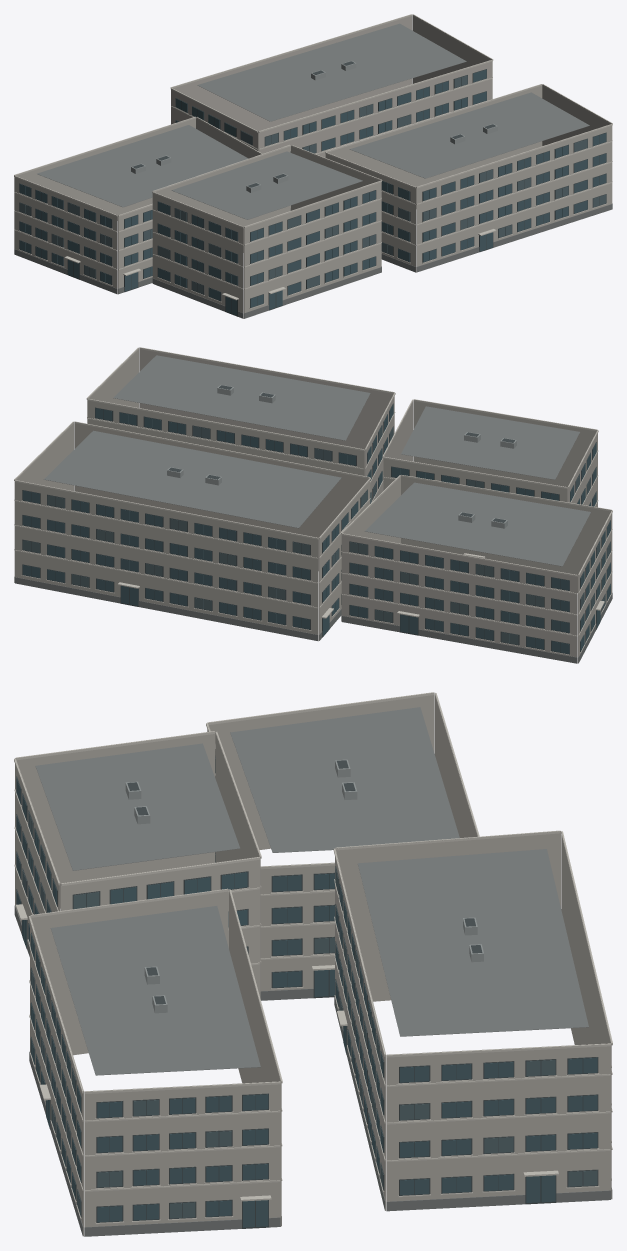
File: north-industrial-frontage-t7.glb
The picture shows the model from 3 angles, top to bottom: view 1: azimuth 30°, elevation 25°; view 2: azimuth 150°, elevation 25°; view 3: azimuth 270°, elevation 25°; orthographic projection. The views are drawn at different scales.
Visible parts, largest first — view 1: Warm precast, Charcoal plinth, Blue gray glazing, Limestone trim, Dark steel, Glazing variation, Roof machinery; view 2: Warm precast, Charcoal plinth, Blue gray glazing, Limestone trim, Dark steel, Glazing variation, Roof machinery; view 3: Charcoal plinth, Warm precast, Blue gray glazing, Limestone trim, Dark steel, Glazing variation, Roof machinery.
Boxes of the visible parts, x1,y1,x2,y2 form: Warm precast: (14, 14, 612, 318); Charcoal plinth: (14, 23, 612, 318); Blue gray glazing: (19, 69, 606, 315); Limestone trim: (14, 14, 612, 308); Dark steel: (19, 61, 606, 316); Glazing variation: (19, 75, 606, 294); Roof machinery: (131, 61, 497, 192); Warm precast: (14, 347, 612, 663); Charcoal plinth: (14, 355, 612, 663); Blue gray glazing: (22, 404, 610, 653); Limestone trim: (14, 347, 612, 655); Dark steel: (22, 385, 610, 654); Glazing variation: (22, 425, 610, 644); Roof machinery: (167, 385, 516, 528); Charcoal plinth: (14, 707, 612, 1236); Warm precast: (15, 692, 611, 1236); Blue gray glazing: (16, 758, 597, 1227); Limestone trim: (14, 692, 612, 1224); Dark steel: (16, 755, 598, 1228); Glazing variation: (22, 811, 597, 1218); Roof machinery: (125, 759, 483, 1013).
Size of the model in its own units: 79.38 by 14.86 by 48.89.
